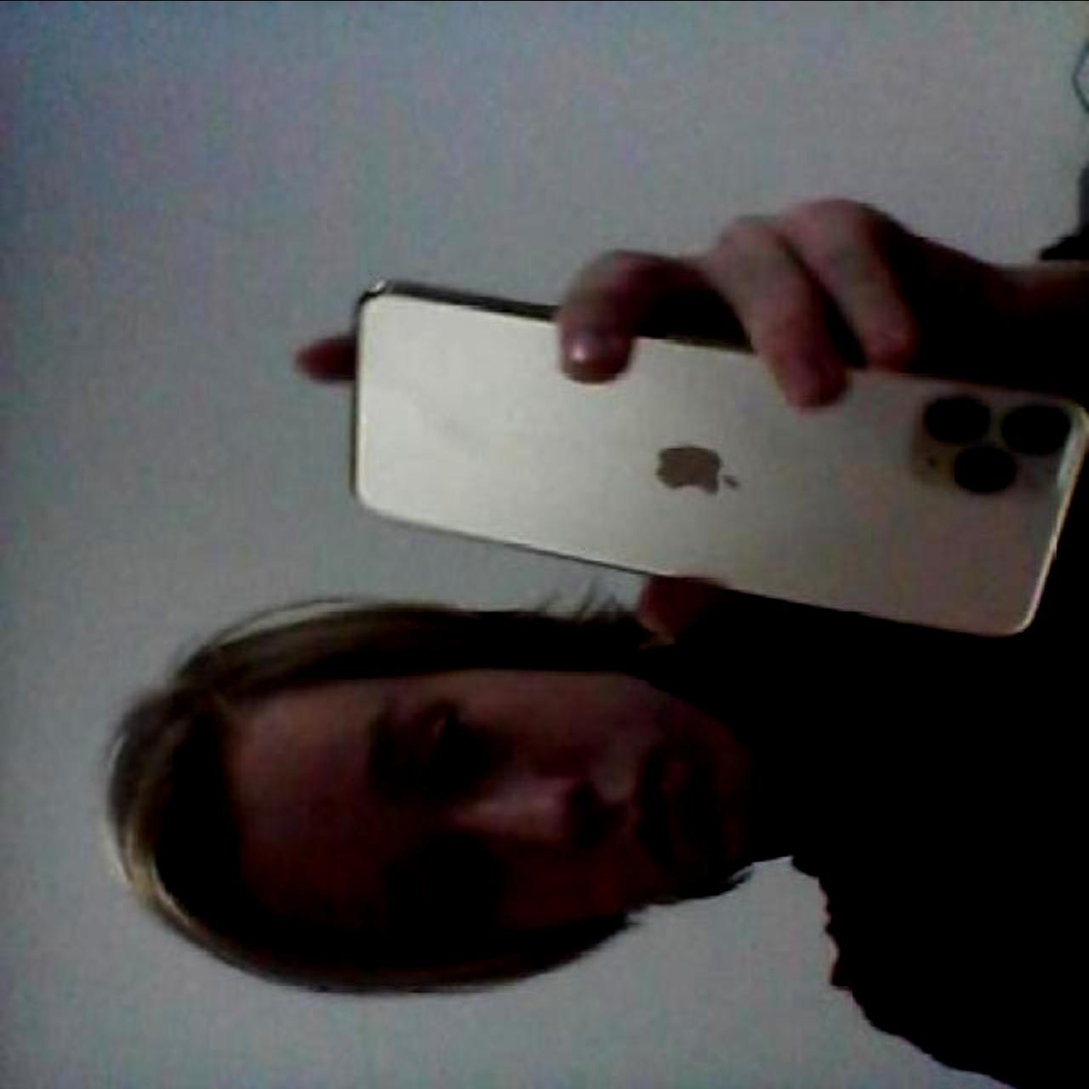phone: (347, 267, 1080, 647)
